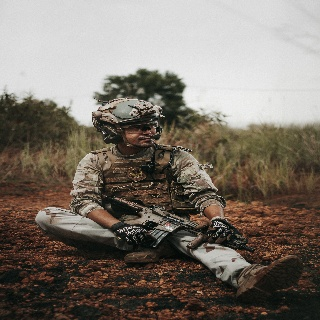rifle: (97, 190, 256, 255)
